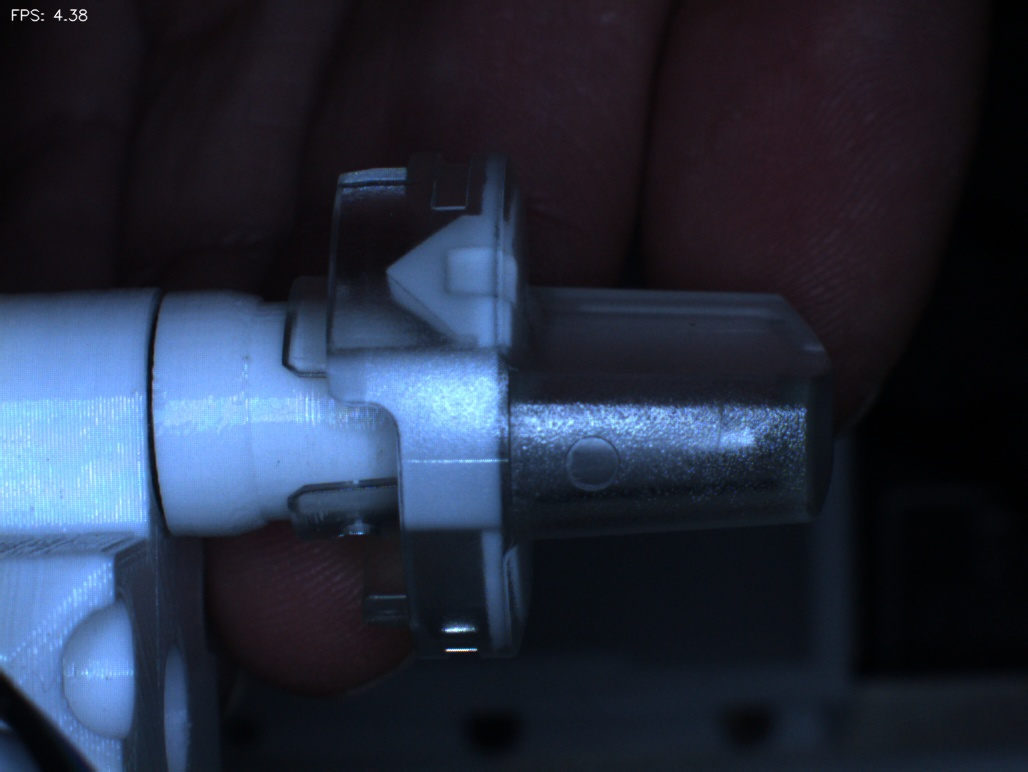DentOk: (357, 239, 433, 334)
